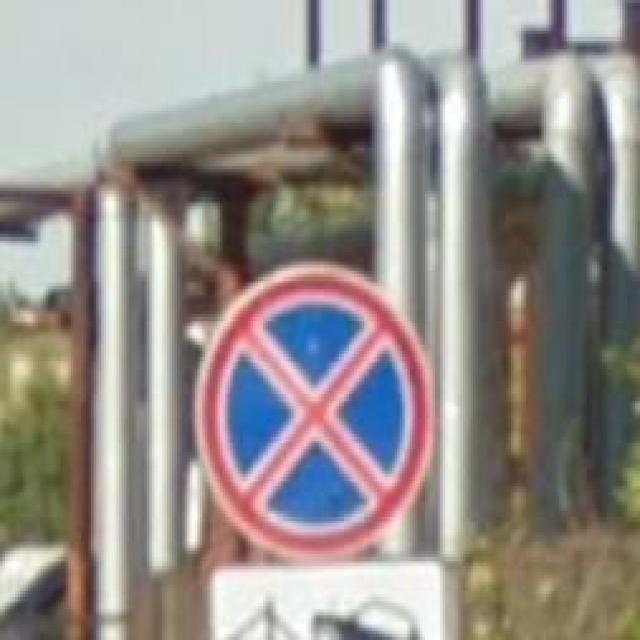Zakaz zatrzymywania sie: (192, 265, 435, 563)
